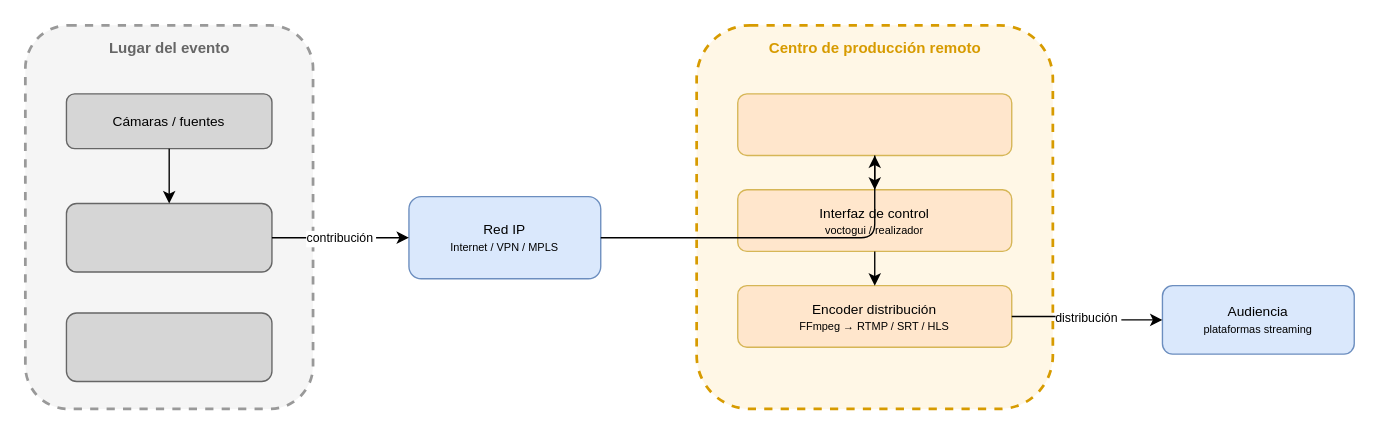
The diagram is 1378 pixels wide and 433 high, and some of its shapes have lost their labels. Each missing label, with the centre of its shape:
"Encoder contribución SRT / MPEG-TS / MKV" belongs at (168,237).
"Mezclador software Voctomix / voctocore" belongs at (874,123).
"Personal mínimo (operadores de cámara)" belongs at (168,347).
